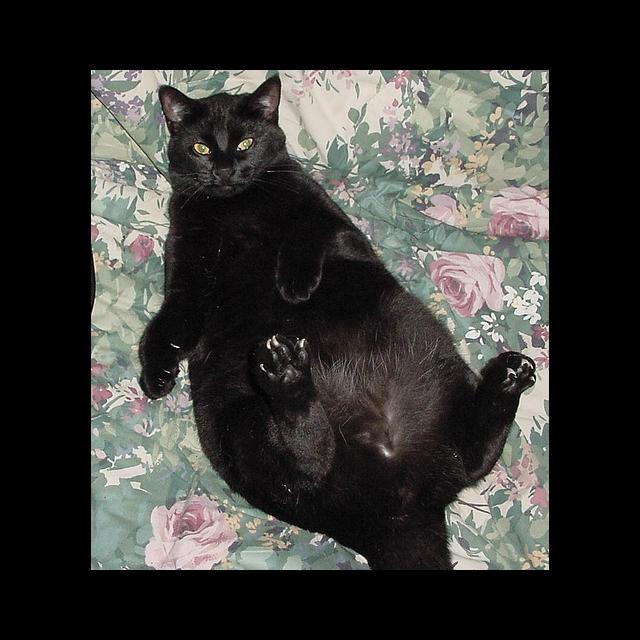animals: (163, 73, 276, 180)
